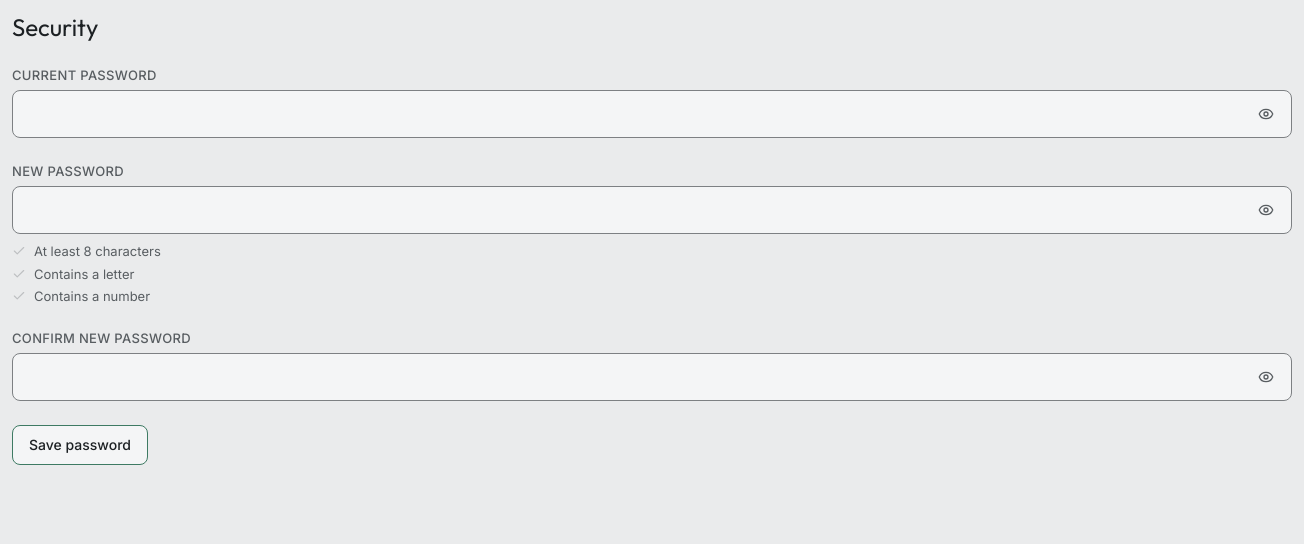
Test: SecuritySection › clears the form and shows the success banner after a successful change
The width and height of the screenshot is (1304, 544).
Type "MyCurrent123" into the password field labelled "Current password". click: (652, 114)
box: left=12, top=90, right=1292, bottom=138
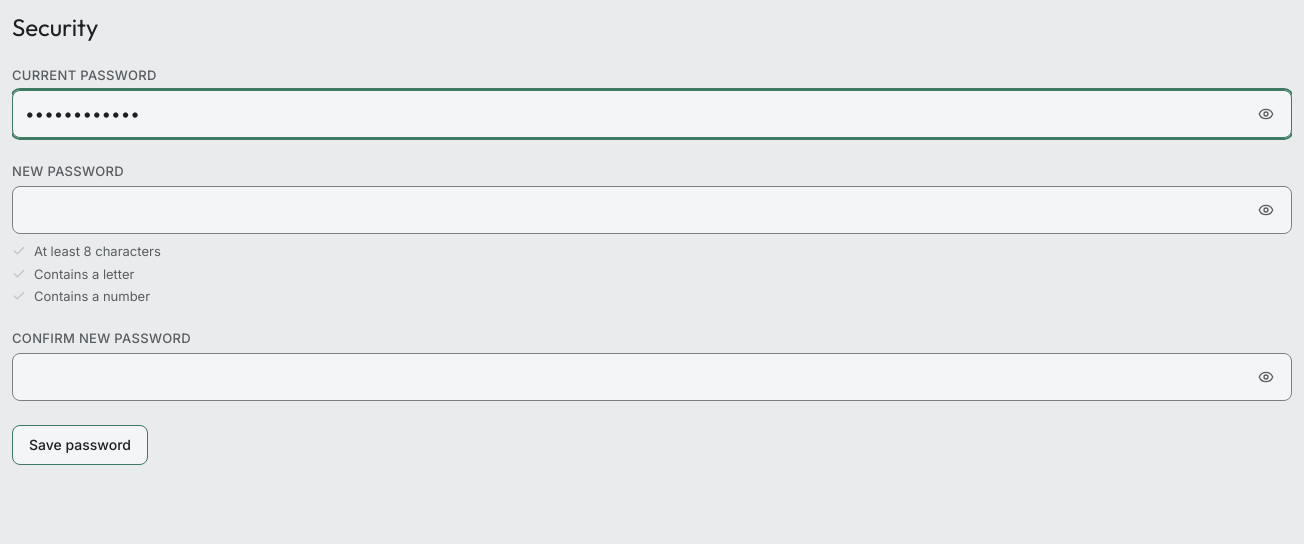
Type "BetterPass123" into the password field labelled "New password". click: (652, 210)
box: left=12, top=186, right=1292, bottom=234
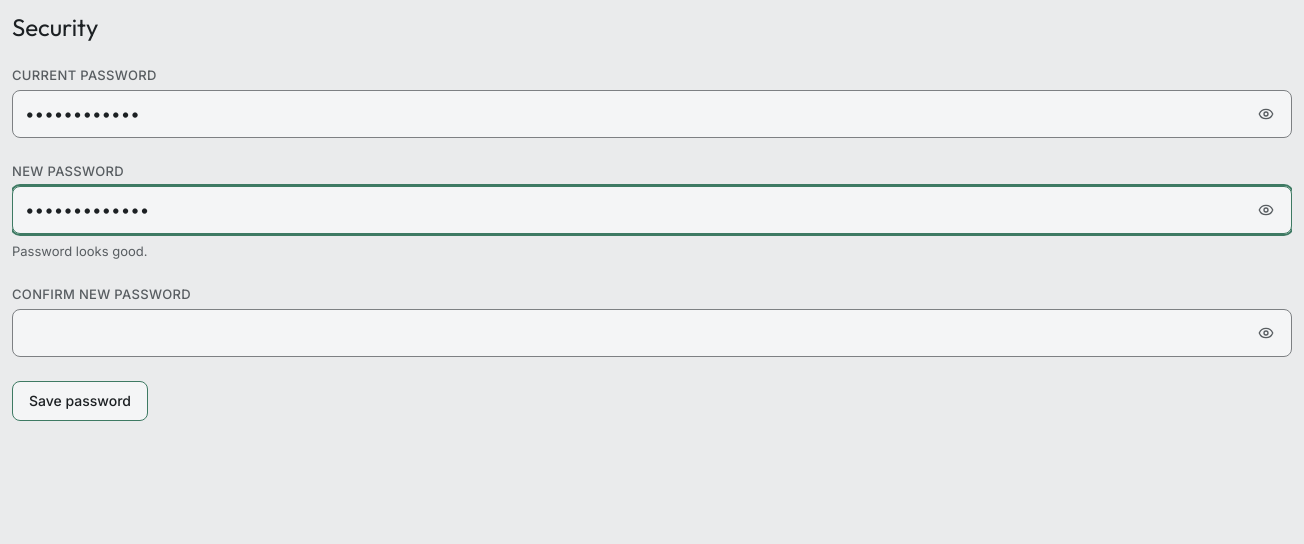
Type "BetterPass123" into the password field labelled "Confirm new password". click: (652, 333)
box: left=12, top=309, right=1292, bottom=357
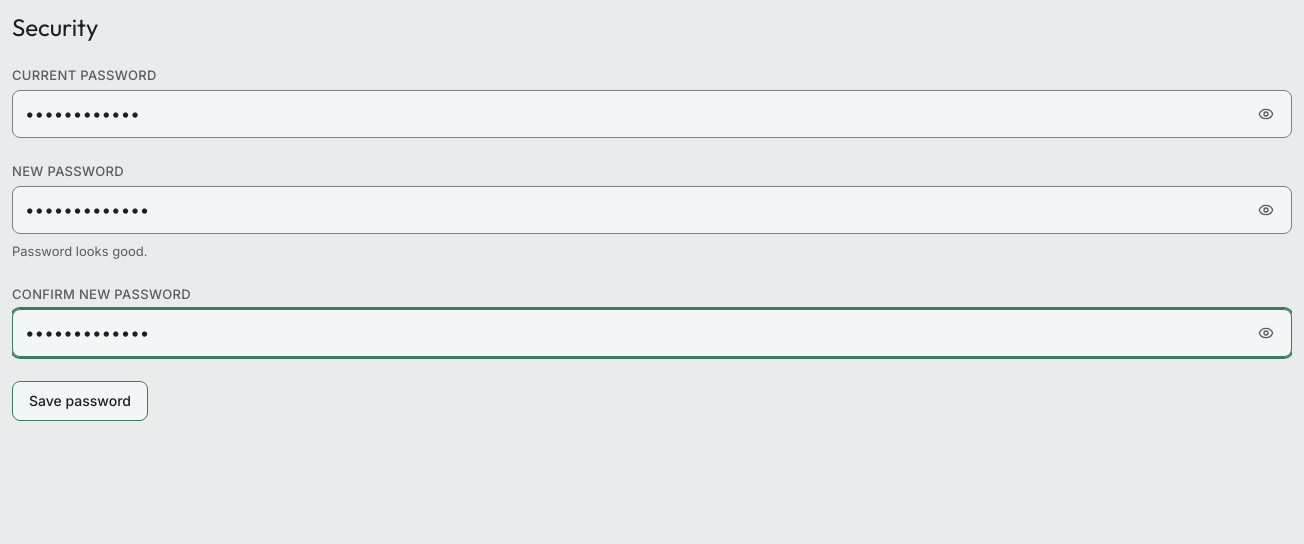
Click the button "Save password". click: (80, 401)
box: left=12, top=381, right=148, bottom=421
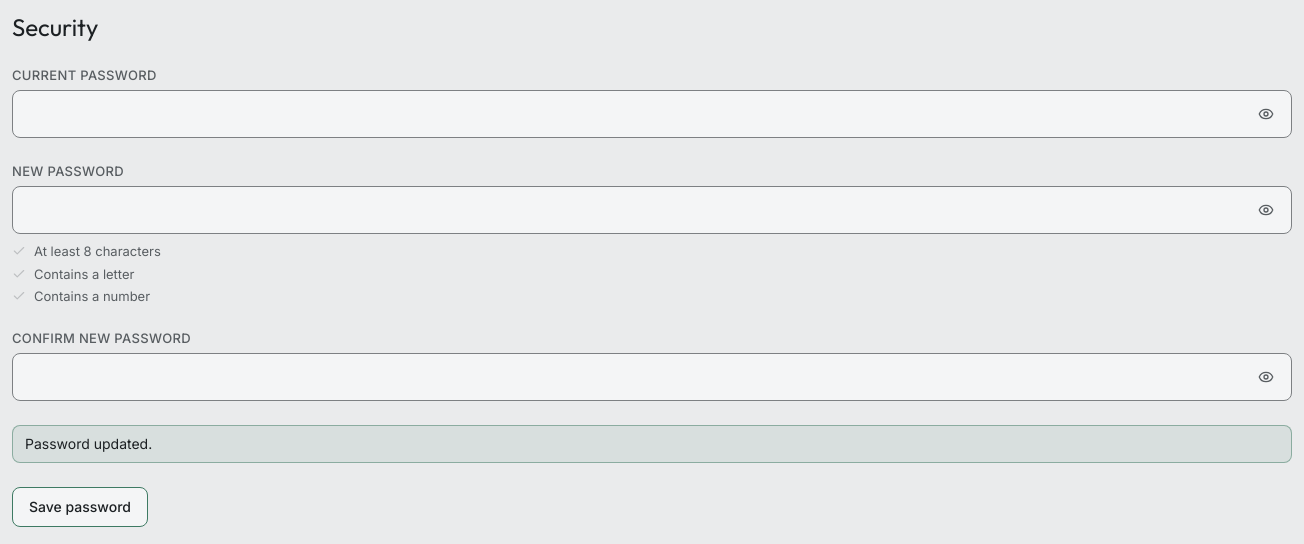
expect the message reads "Password updated.": met, box left=25, top=435, right=152, bottom=452
expect the password field labelled "Current password" is empty: met, box left=12, top=90, right=1292, bottom=138
expect the password field labelled "New password" is empty: met, box left=12, top=186, right=1292, bottom=234
